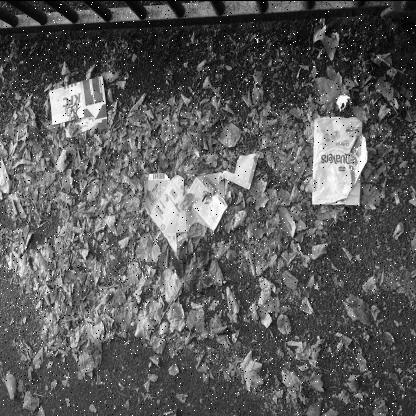cardboard: (144, 151, 260, 257), (48, 74, 108, 136)
plastic: (312, 114, 368, 206)
